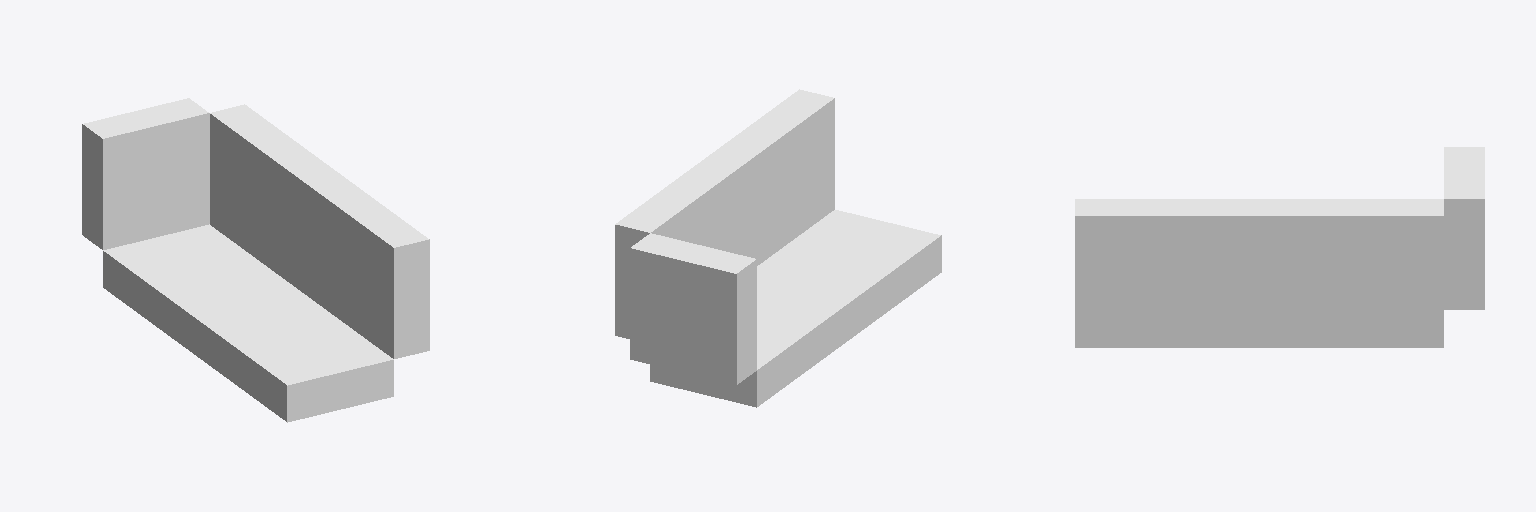
Rendered from order5.vox.obj.
3 renders of one model, left to right at view 1: azimuth 30°, elevation 25°; view 2: azimuth 150°, elevation 25°; view 3: azimuth 270°, elevation 25°, orthographic.
Visible parts, largest first — view 1: object 1; view 2: object 1; view 3: object 1.
Boxes of the visible parts, box(x1,y1,x2,y2) form: object 1: box(82, 98, 429, 422); object 1: box(615, 89, 941, 407); object 1: box(1075, 147, 1484, 347).
Size of the model in its own units: 8 by 8 by 20.